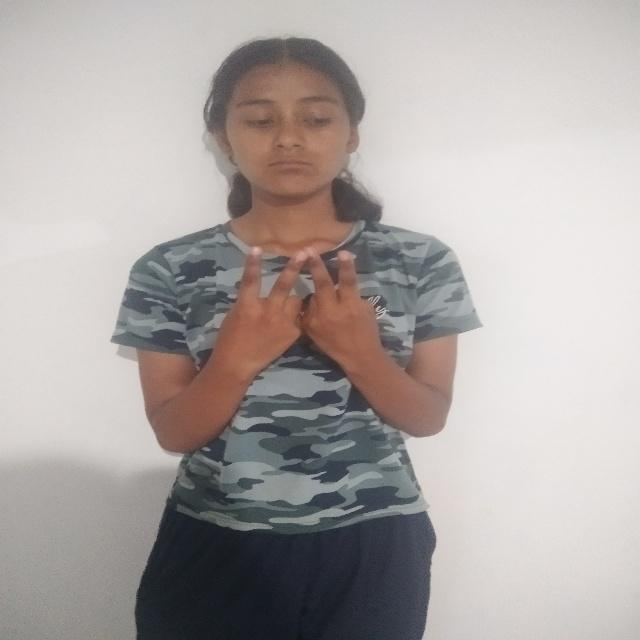Reversed Victory: (214, 234, 312, 395), (290, 239, 379, 388)
